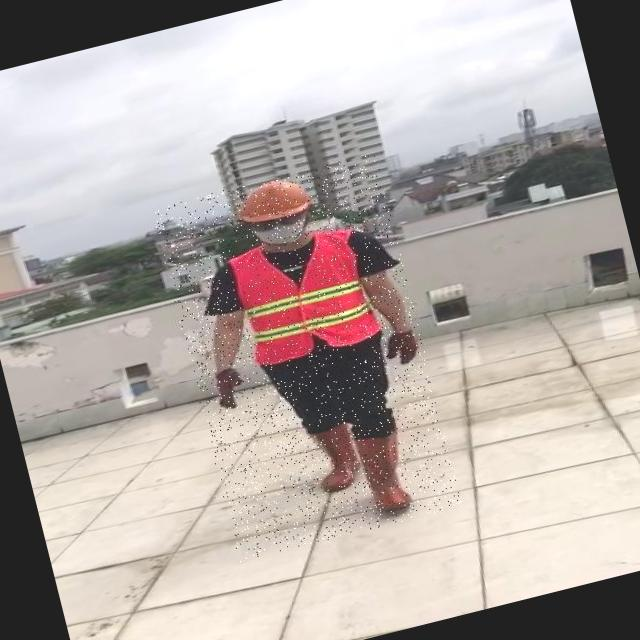boots: (354, 427, 419, 518), (306, 421, 366, 495)
helmet: (232, 173, 314, 228)
vest: (228, 223, 382, 369)
